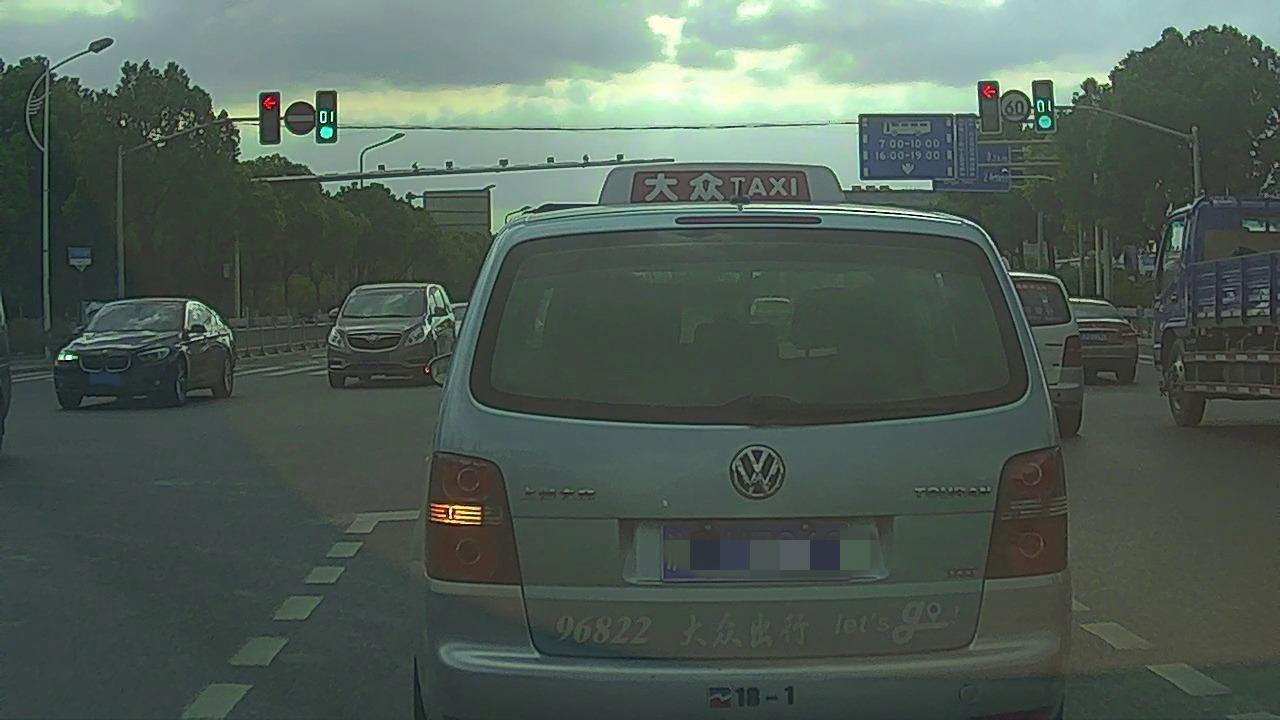traffic_light: (1032, 80, 1054, 131), (977, 81, 998, 133), (316, 89, 336, 143), (258, 93, 279, 144)
